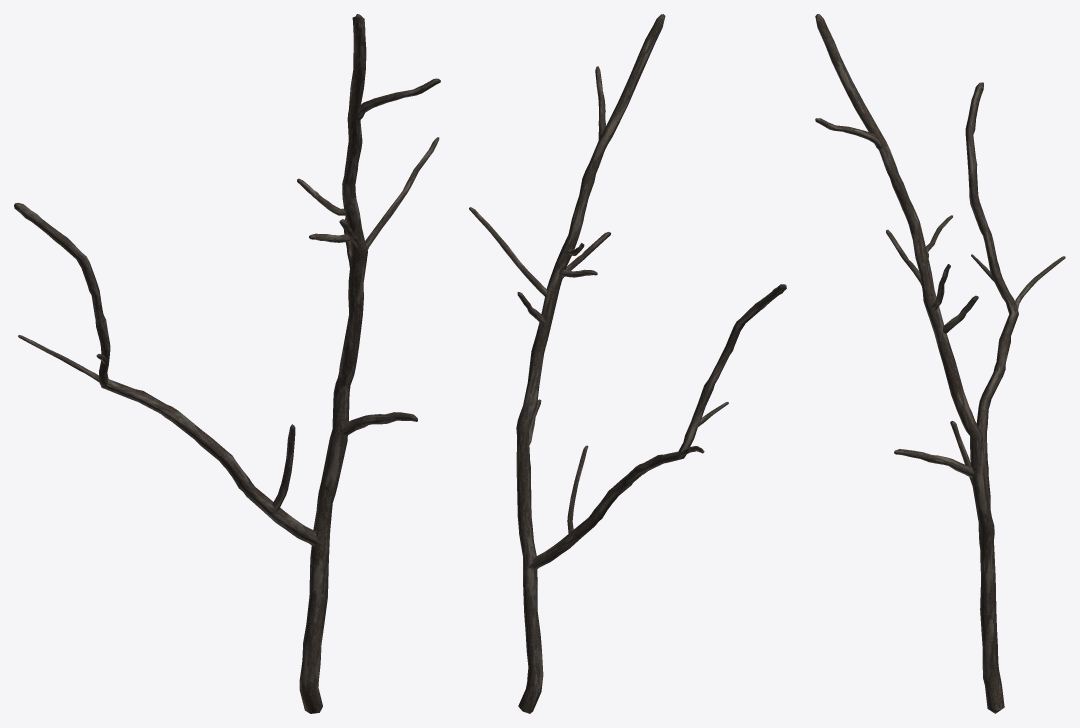
File: Branch_deadwood1_LOD1.fbx
3 renders of one model, left to right at view 1: azimuth 30°, elevation 25°; view 2: azimuth 150°, elevation 25°; view 3: azimuth 270°, elevation 25°, orthographic. The views are drawn at different scales.
Visible parts, largest first — view 1: polySurface5; view 2: polySurface5; view 3: polySurface5.
Part boxes in pixels (box(x1,y1,x2,y2)): polySurface5: box(14, 14, 440, 713); polySurface5: box(469, 14, 786, 713); polySurface5: box(815, 14, 1065, 713).
Bounding box in the file's own units: 157 × 292 × 98.6.
